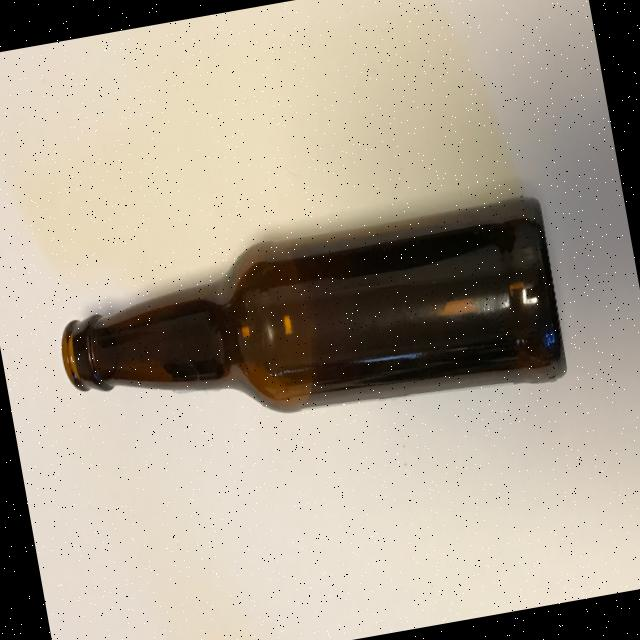glass: (48, 190, 572, 465)
